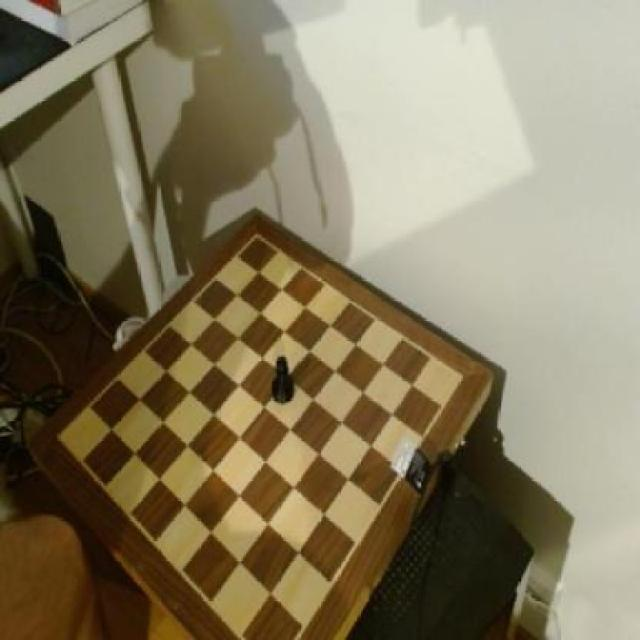black-knight: (274, 352, 302, 412)
